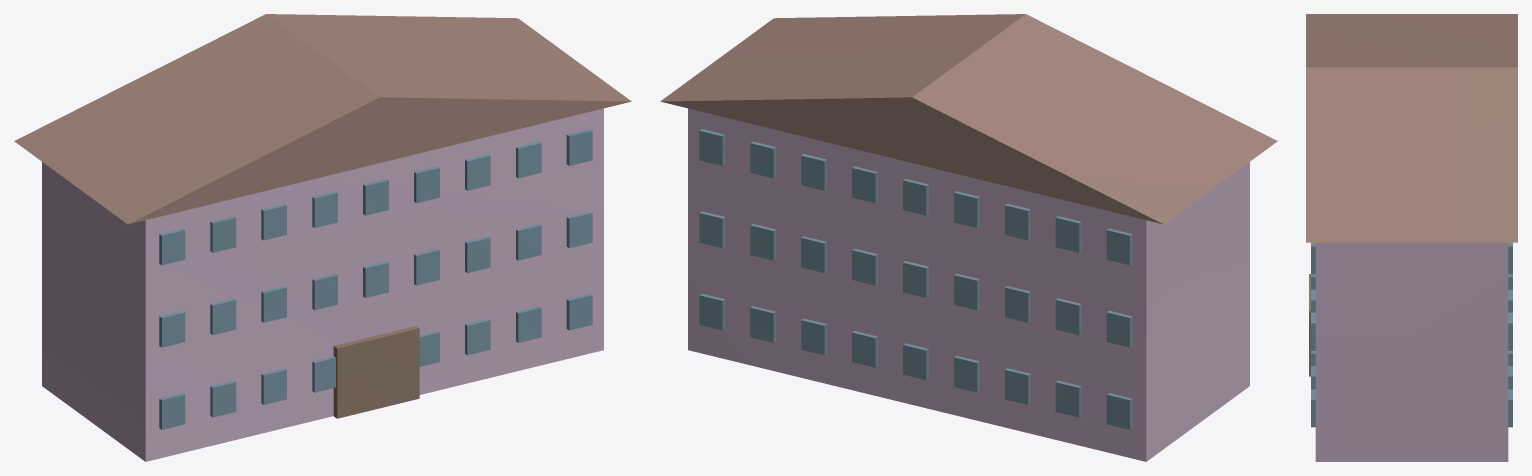
The model's file is station-05.glb.
The picture shows the model from 3 angles, left to right: view 1: azimuth 30°, elevation 25°; view 2: azimuth 150°, elevation 25°; view 3: azimuth 270°, elevation 25°; orthographic projection. The views are drawn at different scales.
Parts seen in each view (by area): view 1: world; view 2: world; view 3: world.
Part boxes in pixels (<box>): world: <box>14,14,631,461</box>; world: <box>660,14,1277,461</box>; world: <box>1306,14,1517,461</box>.
Bounding box in the file's own units: 3 × 1.78 × 1.17.
